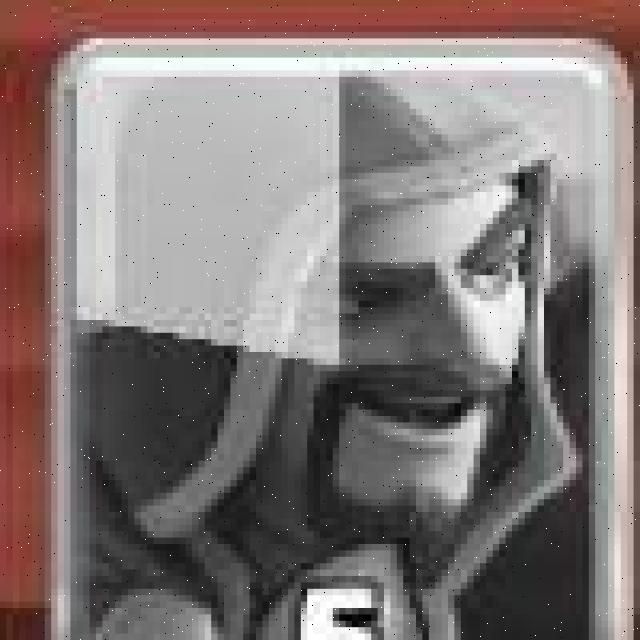Wizard: (50, 37, 628, 640)
